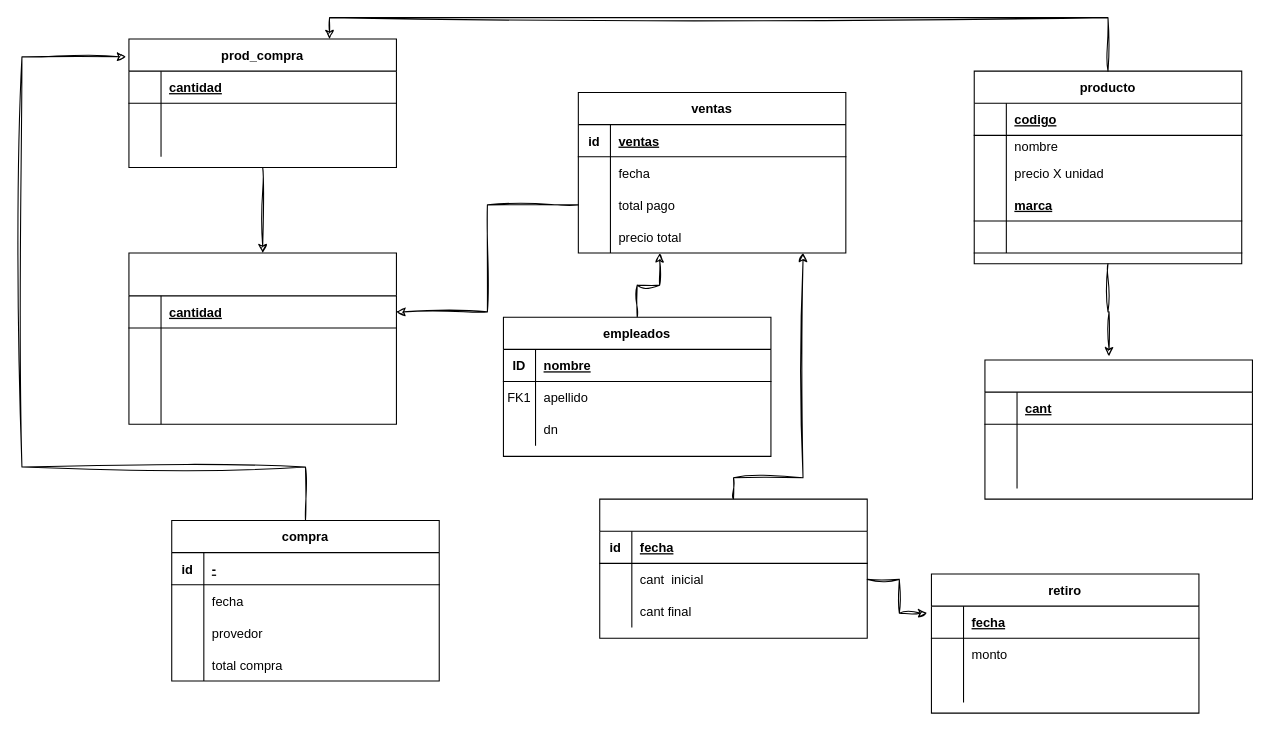
Image size: 1270x731. Some labels were removed from this diagram. Each missing label, with the box of its shape:
caja: (599, 498, 867, 638)
Stock: (984, 359, 1252, 499)
ventas producto: (128, 252, 396, 424)
